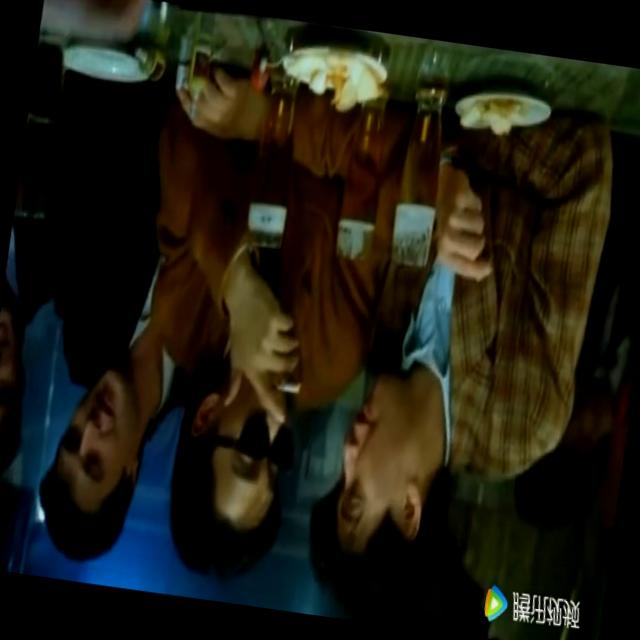cigarette: (278, 380, 304, 394)
